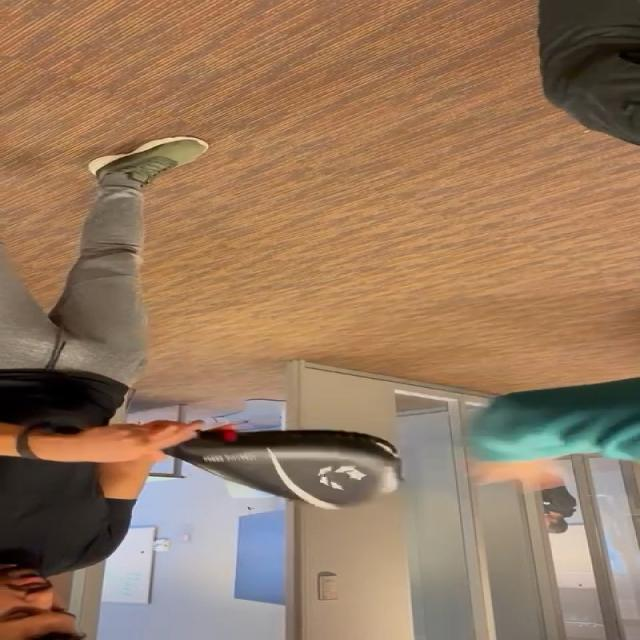paddle: (225, 436, 404, 508)
